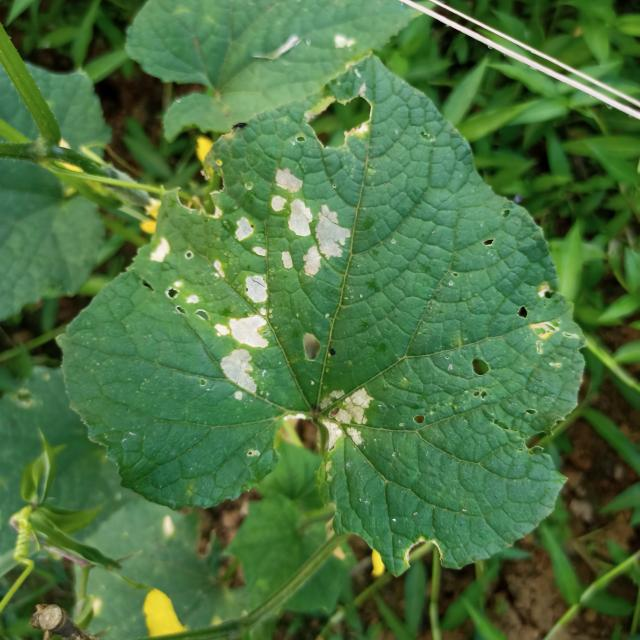disease_cucumber: (145, 218, 279, 403), (267, 154, 357, 282), (316, 380, 379, 451)
